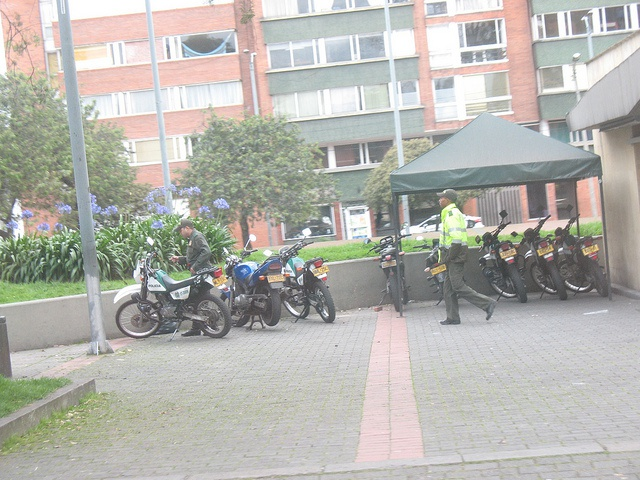non-vehicle: (113, 236, 231, 338), (262, 227, 335, 323), (219, 233, 284, 328), (510, 205, 567, 300), (553, 203, 609, 297), (475, 209, 527, 302), (360, 221, 411, 312), (412, 238, 459, 304)
